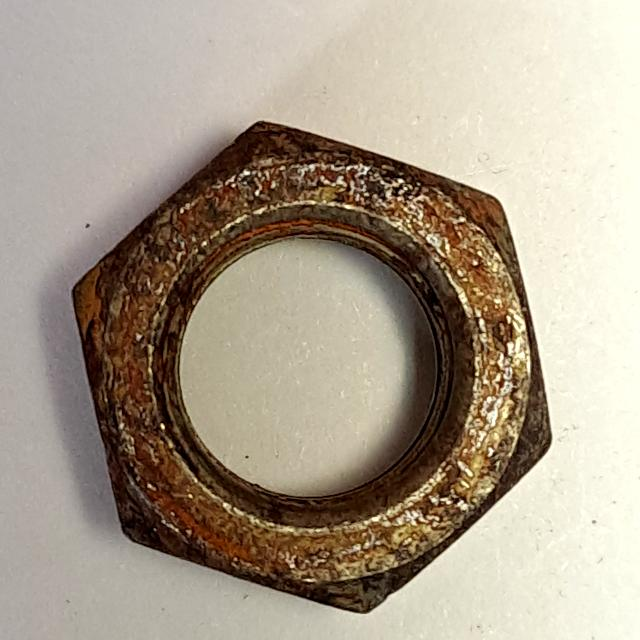Rust: (60, 113, 571, 626)
